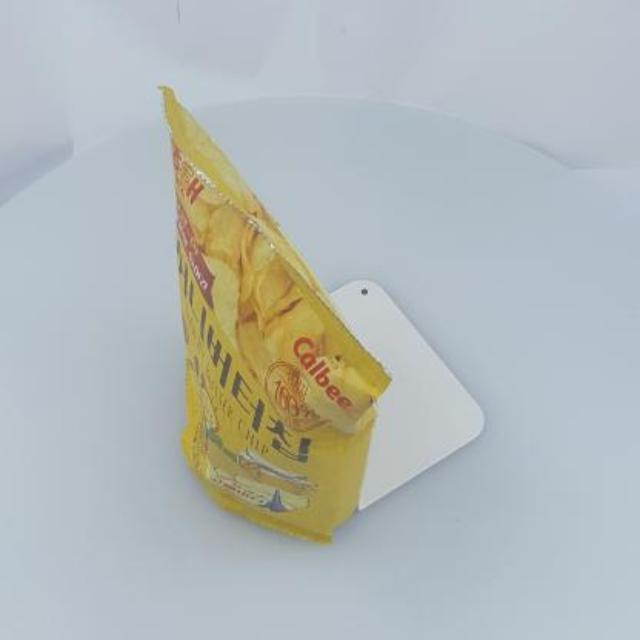snack_bag: (144, 68, 416, 558)
